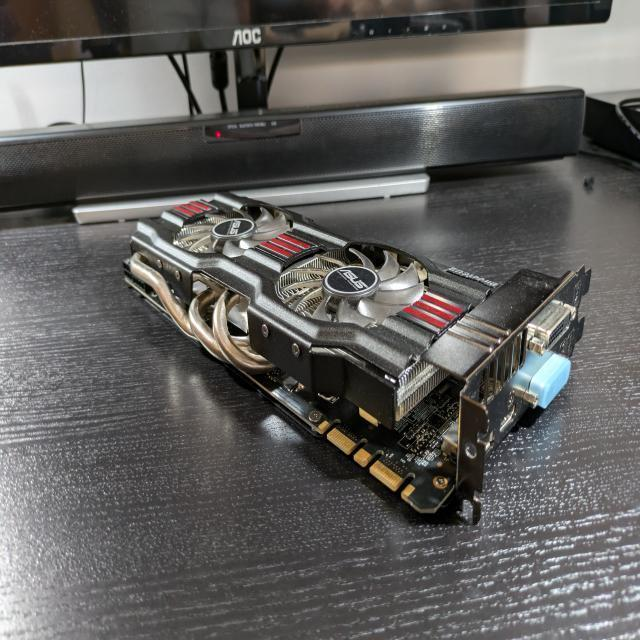GPU: (110, 180, 594, 524)
